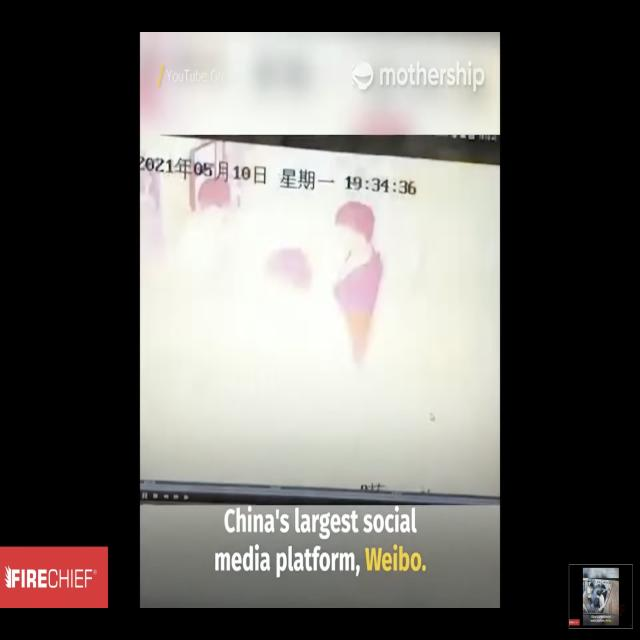Atencao: (155, 156, 495, 494)
